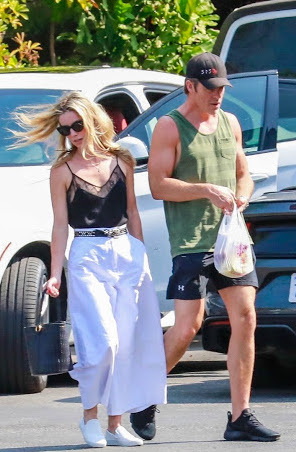Person: (129, 51, 281, 441), (42, 91, 145, 448)
